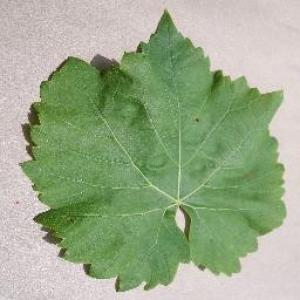Folha: (18, 7, 287, 292)
